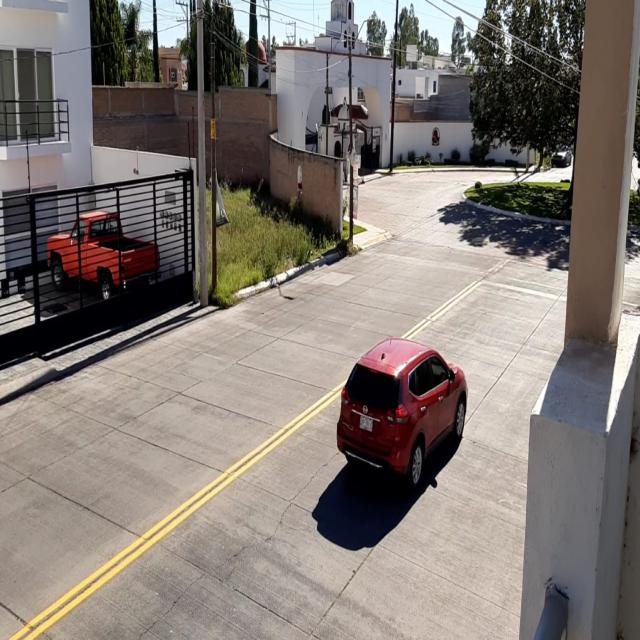Auto: (338, 336, 468, 495)
